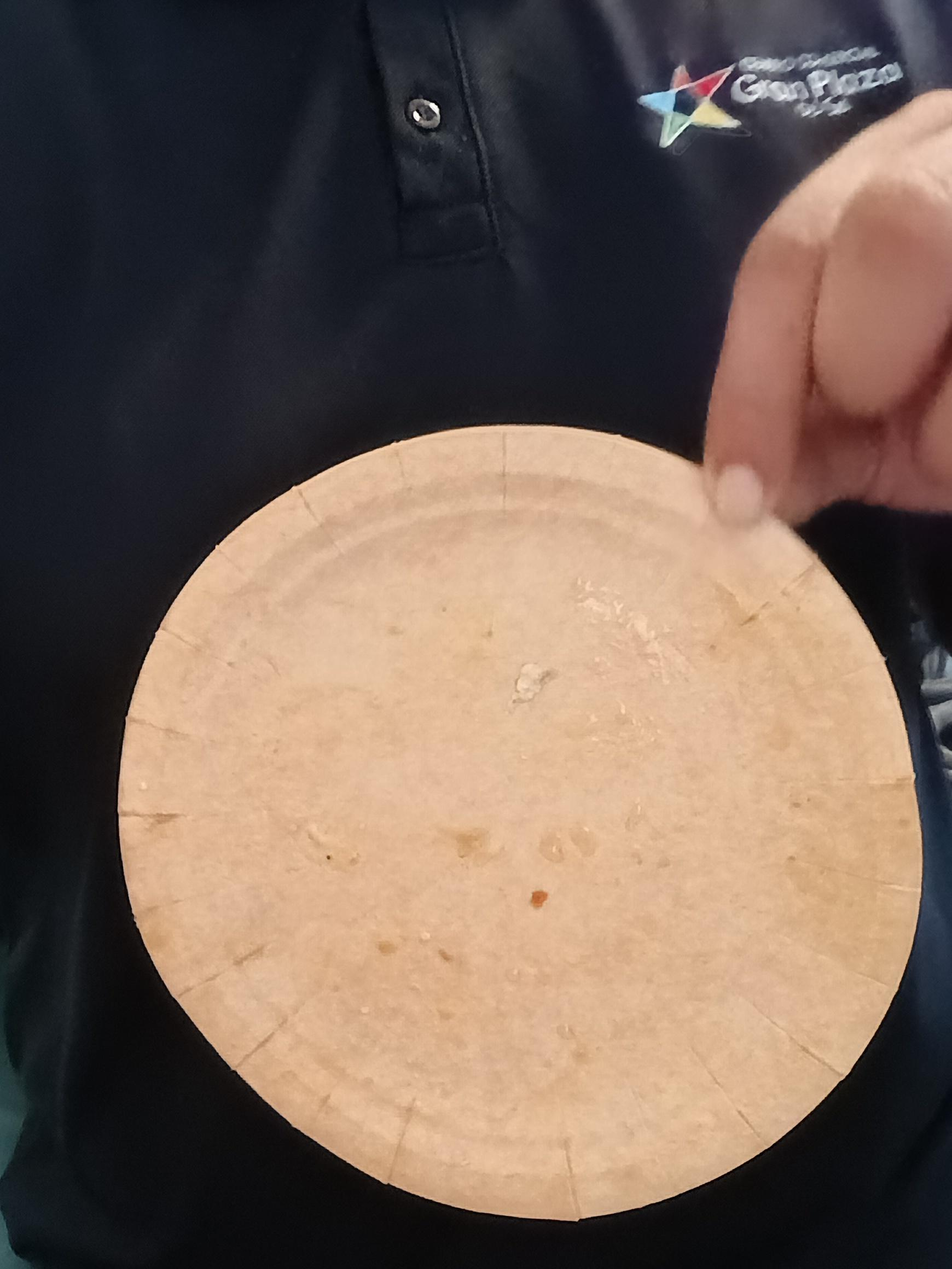Ordinario: (120, 419, 922, 1219)
